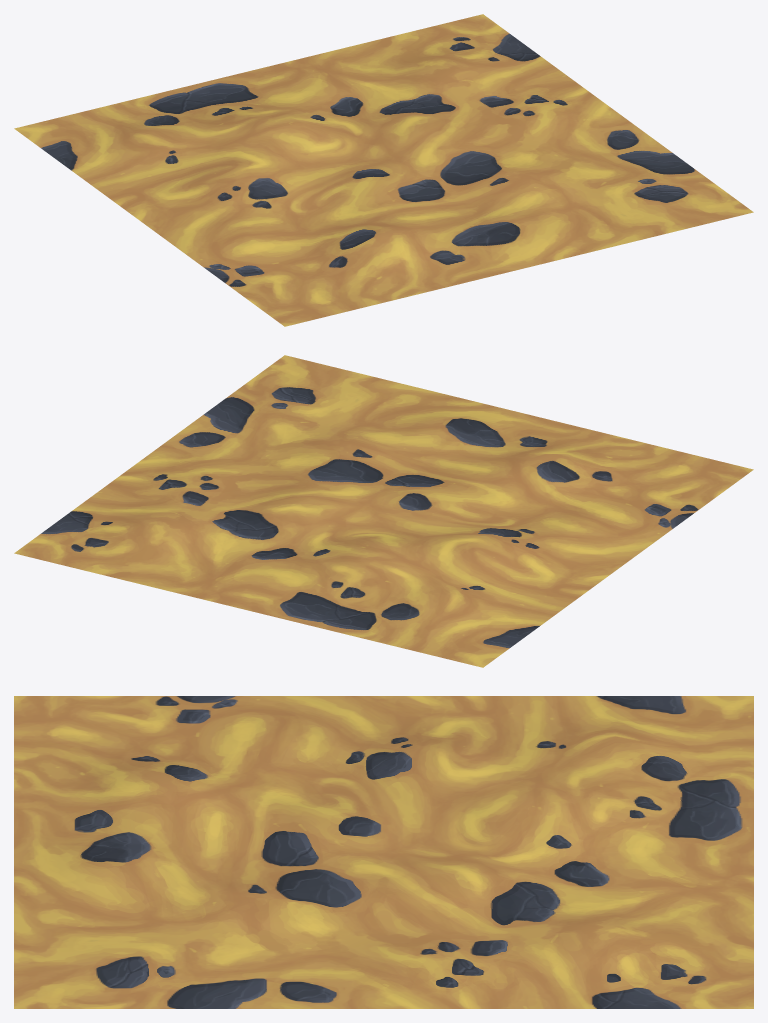
Rendered from lava_grid.fbx.
The picture shows the model from 3 angles, top to bottom: view 1: azimuth 30°, elevation 25°; view 2: azimuth 150°, elevation 25°; view 3: azimuth 270°, elevation 25°; orthographic projection. The views are drawn at different scales.
Parts seen in each view (by area): view 1: lava_grid; view 2: lava_grid; view 3: lava_grid.
Part boxes in pixels (box(x1,y1,x2,y2)): lava_grid: box(14, 14, 753, 326); lava_grid: box(14, 355, 753, 667); lava_grid: box(14, 696, 753, 1008).
Size of the model in its own units: 2 by 0.0651 by 2.
